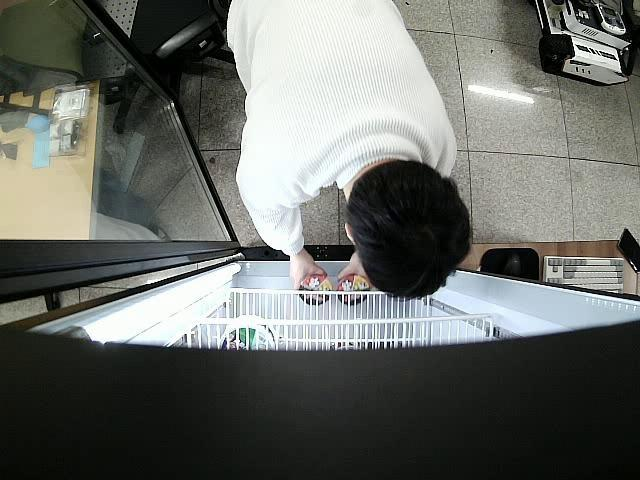08_buldak_S: (295, 273, 332, 306), (338, 272, 368, 306)
